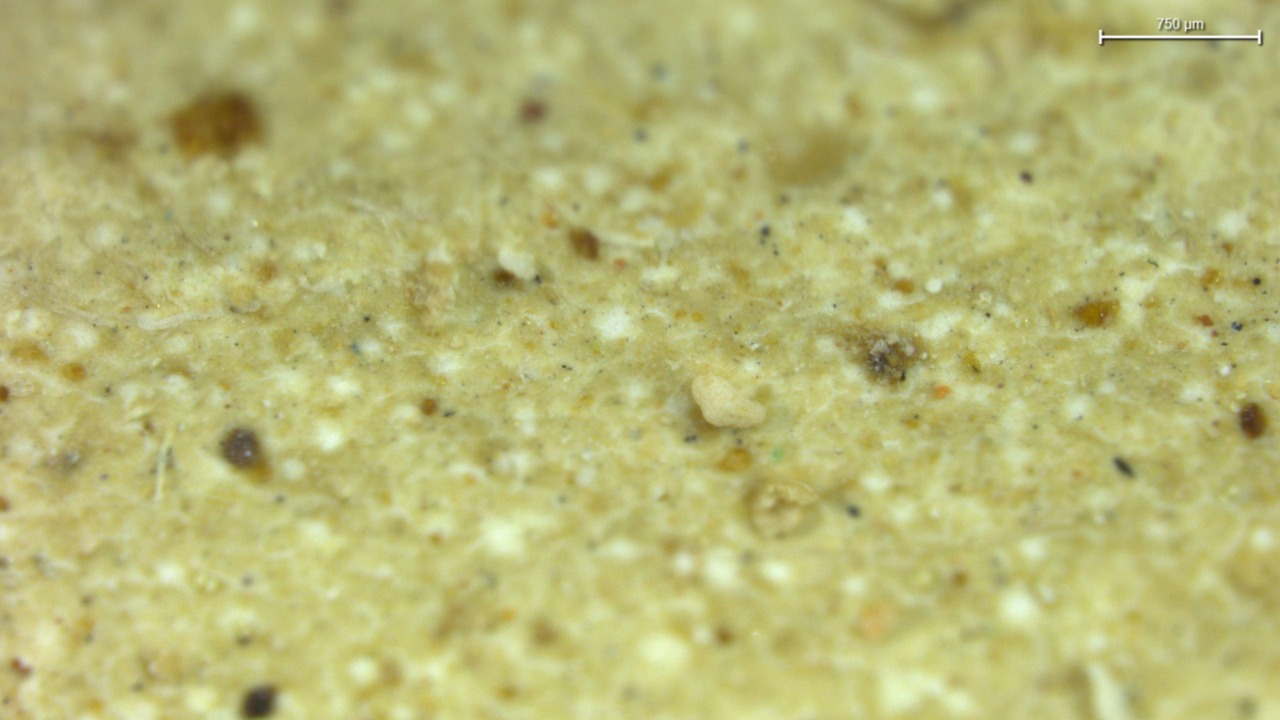microplastic_fragment: (691, 370, 767, 433)
